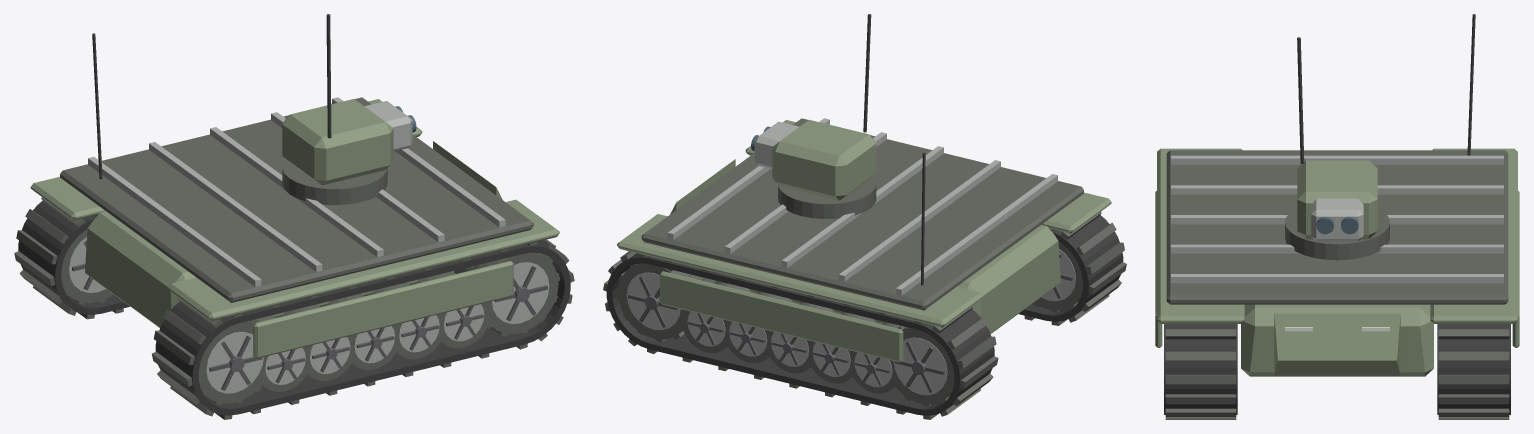
Rendered from rover_ugv.glb.
3 renders of one model, left to right at view 1: azimuth 30°, elevation 25°; view 2: azimuth 150°, elevation 25°; view 3: azimuth 270°, elevation 25°, orthographic. The views are drawn at different scales.
Parts seen in each view (by area): view 1: rover_v6, track_r_v0, rover_v3, rover_v13, rover_v4, rover_v2, wheel_r1_v0, wheel_r7_v0, track_l_v0, rover_v12, rover_v8, rover_v7 (+16 smaller); view 2: rover_v6, track_l_v0, rover_v1, rover_v13, rover_v4, rover_v0, wheel_l1_v0, wheel_l7_v0, track_r_v0, rover_v12, rover_v8, rover_v7 (+13 smaller); view 3: rover_v6, rover_v5, rover_v4, rover_v13, track_l_v0, track_r_v0, rover_v2, rover_v0, rover_v11, rover_v7, rover_v8, rover_v10 (+17 smaller).
Part boxes in pixels (x1,y1,x2,y2): rover_v6: (60,97,533,302); track_r_v0: (155,241,570,415); rover_v3: (253,261,513,358); rover_v13: (282,99,393,185); rover_v4: (85,211,454,327); rover_v2: (168,199,559,320); wheel_r1_v0: (453,252,559,336); wheel_r7_v0: (198,319,267,405); track_l_v0: (18,201,129,314); rover_v12: (282,159,387,204); rover_v8: (149,142,322,271); rover_v7: (88,157,261,286); rover_v6: (641,118,1083,310); track_l_v0: (606,253,994,415); rover_v1: (660,271,903,362); rover_v13: (772,119,876,200); rover_v4: (715,225,1060,333); rover_v0: (617,214,982,327); wheel_l1_v0: (617,263,715,342); wheel_l7_v0: (890,326,954,406); track_r_v0: (1019,215,1123,321); rover_v12: (778,176,876,218); rover_v8: (838,160,1000,281); rover_v7: (896,174,1057,295); rover_v6: (1166,150,1508,304); rover_v5: (1274,313,1400,375); rover_v4: (1241,304,1433,376); rover_v13: (1297,160,1377,239); track_l_v0: (1437,324,1510,414); track_r_v0: (1164,324,1237,414); rover_v2: (1157,148,1244,323); rover_v0: (1430,148,1517,323); rover_v11: (1171,274,1503,283); rover_v7: (1171,155,1503,164); rover_v8: (1171,185,1503,194); rover_v10: (1171,244,1503,253).
Bounding box in the file's own units: 2.54 × 1.98 × 2.08.
12 materials, 1 textured.
